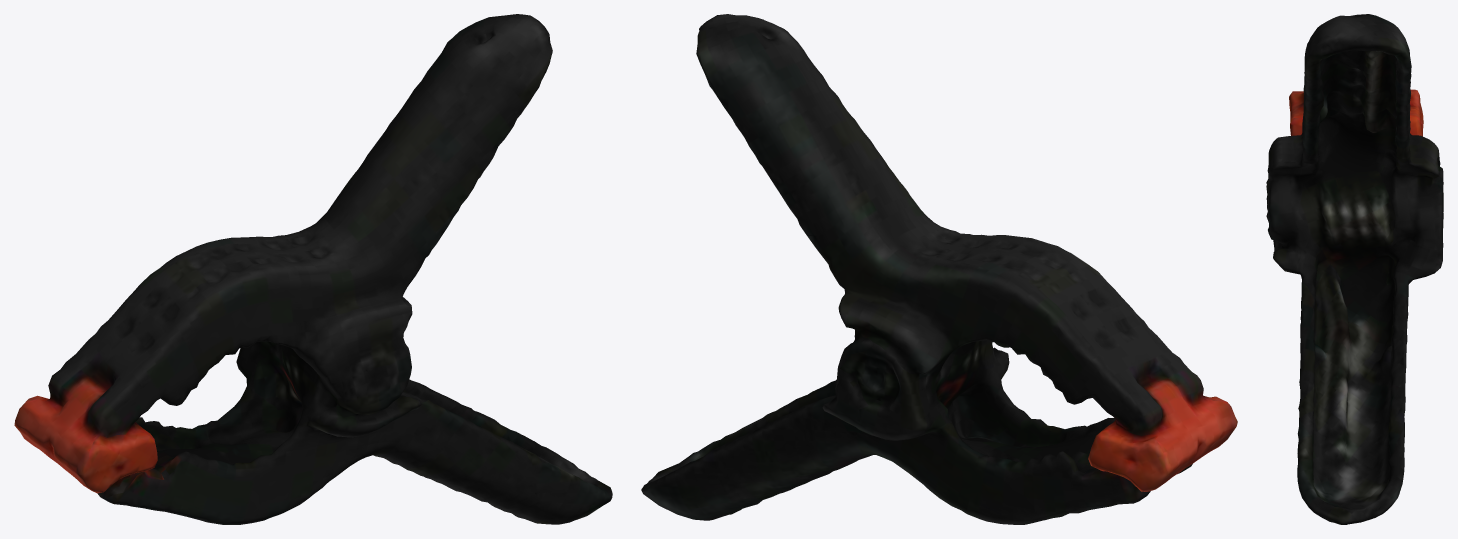
File: ddg-ycb_050_medium_clamp.glb
3 views of the same model, side by side, from view 1: azimuth 30°, elevation 25°; view 2: azimuth 150°, elevation 25°; view 3: azimuth 270°, elevation 25° (orthographic). The views are drawn at different scales.
Parts seen in each view (by area): view 1: textured(Clone); view 2: textured(Clone); view 3: textured(Clone).
Boxes of the visible parts, box(x1,y1,x2,y2) form: textured(Clone): box(14, 14, 612, 524); textured(Clone): box(641, 14, 1237, 524); textured(Clone): box(1266, 14, 1443, 524).
Bounding box in the file's own units: 1.53 × 1.32 × 0.4489.
1 material, 1 textured.
